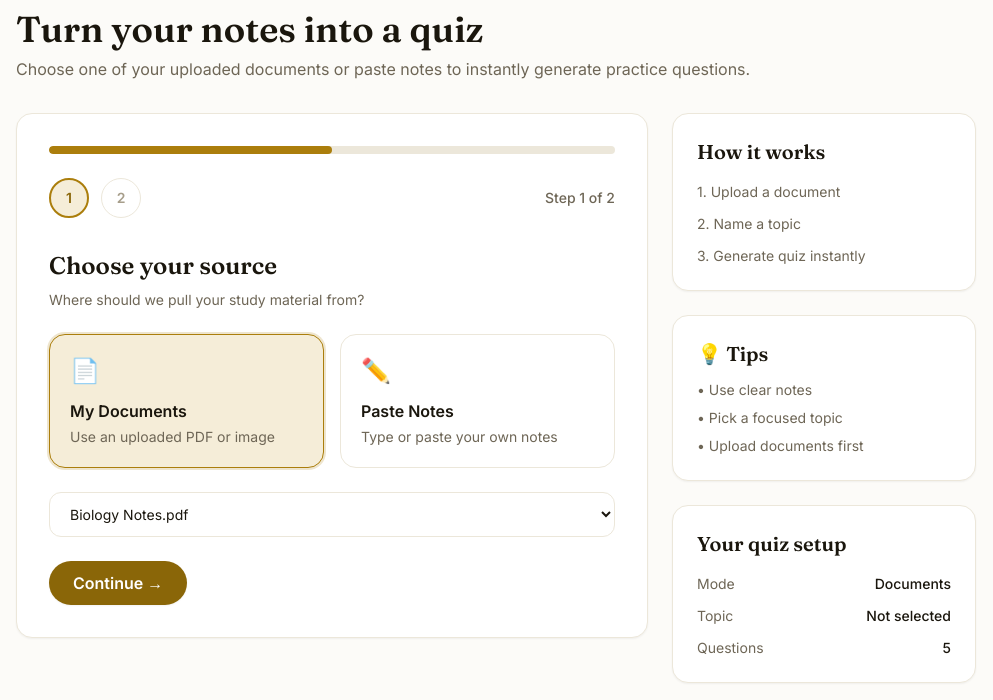
QuizGenerator — Step 1: Source selection › clicking continue advances to step 2
Click the button "Continue →" at (118, 583), box x1=49 y1=561 x2=187 y2=605
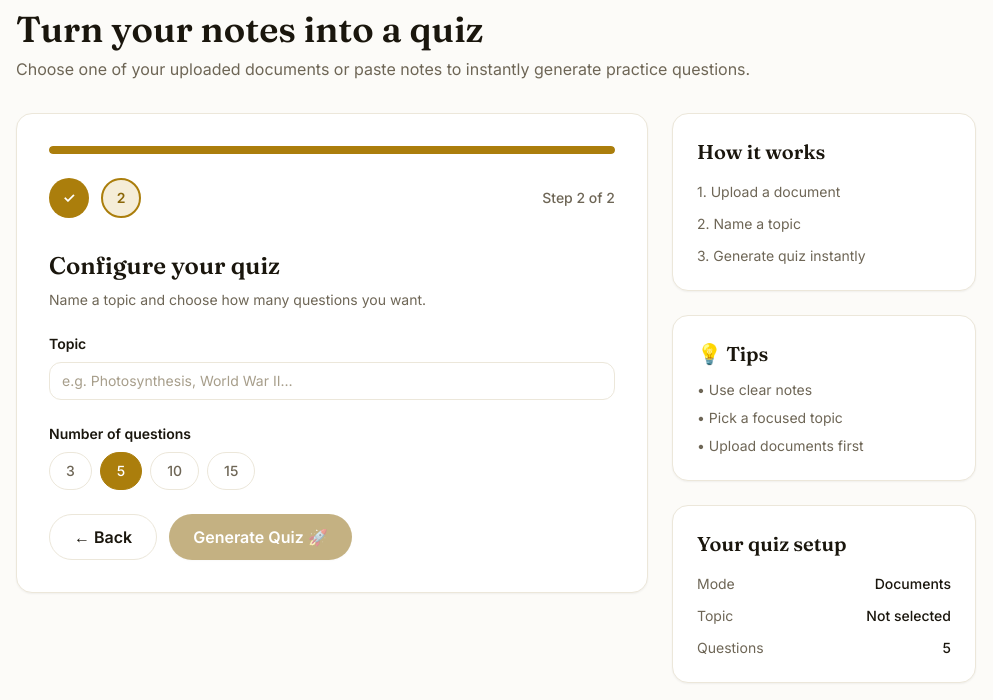
Now the heading "Configure your quiz" is shown, box x1=49 y1=251 x2=280 y2=280
Now the text "Step 2 of 2" is shown, box x1=542 y1=188 x2=615 y2=208
